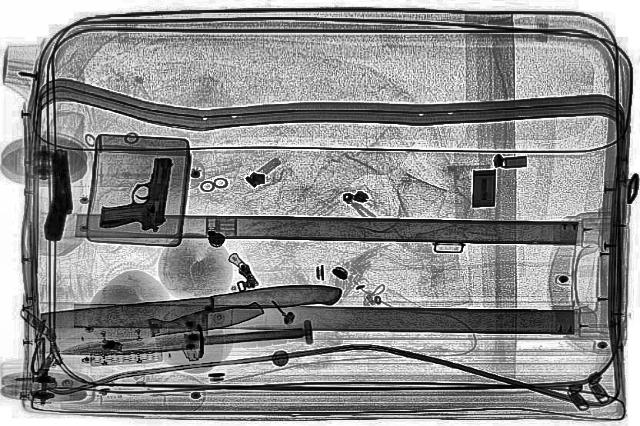Gun: (98, 155, 172, 231), (42, 150, 76, 240)
Knife: (34, 280, 350, 362), (43, 298, 267, 360), (56, 322, 304, 360)
